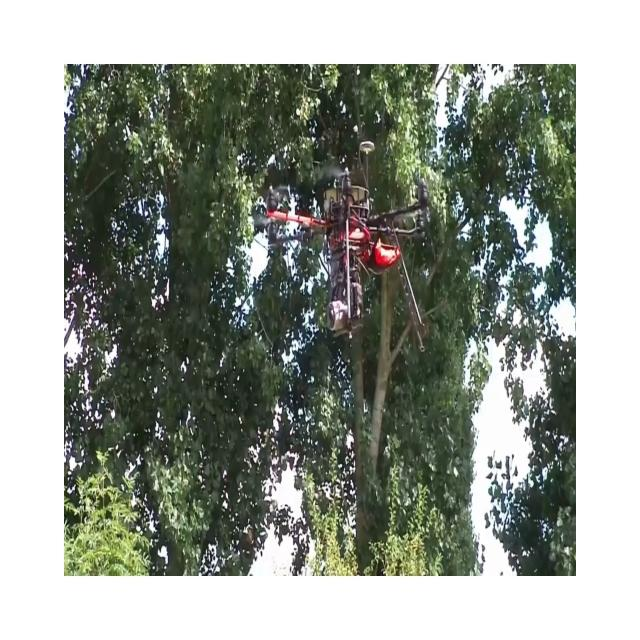drone: (252, 139, 431, 344)
